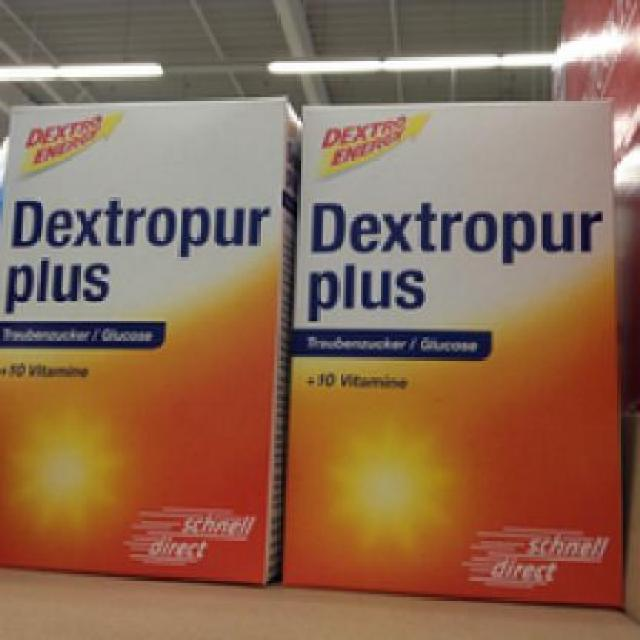Sugar: (274, 97, 630, 606), (0, 94, 283, 583)
